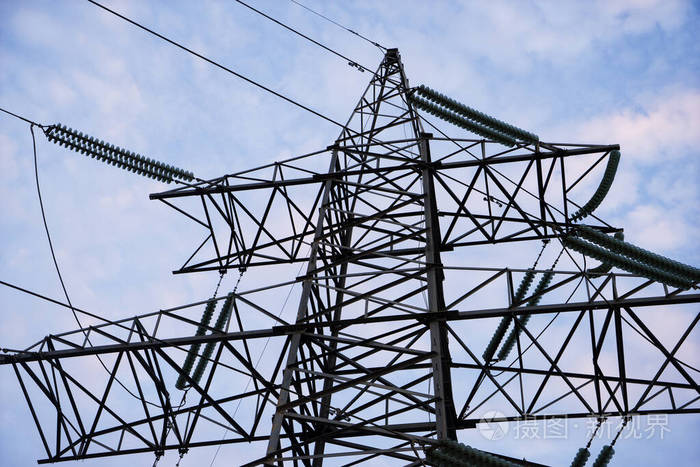insulator: (44, 126, 195, 185), (565, 228, 700, 287), (407, 87, 537, 148)
